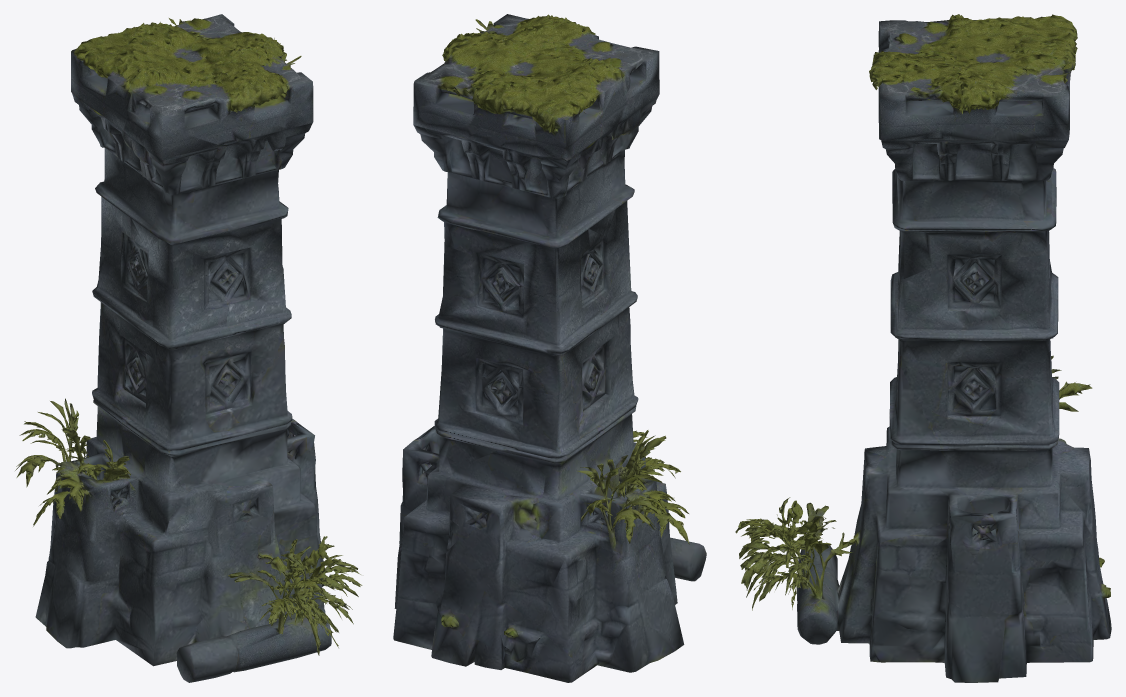
File: og_mid_tower.glb
3 views of the same model, side by side, from view 1: azimuth 30°, elevation 25°; view 2: azimuth 150°, elevation 25°; view 3: azimuth 270°, elevation 25° (orthographic). The views are drawn at different scales.
Size of the model in its own units: 1 by 1.89 by 1.12.
1 material, 1 textured.
